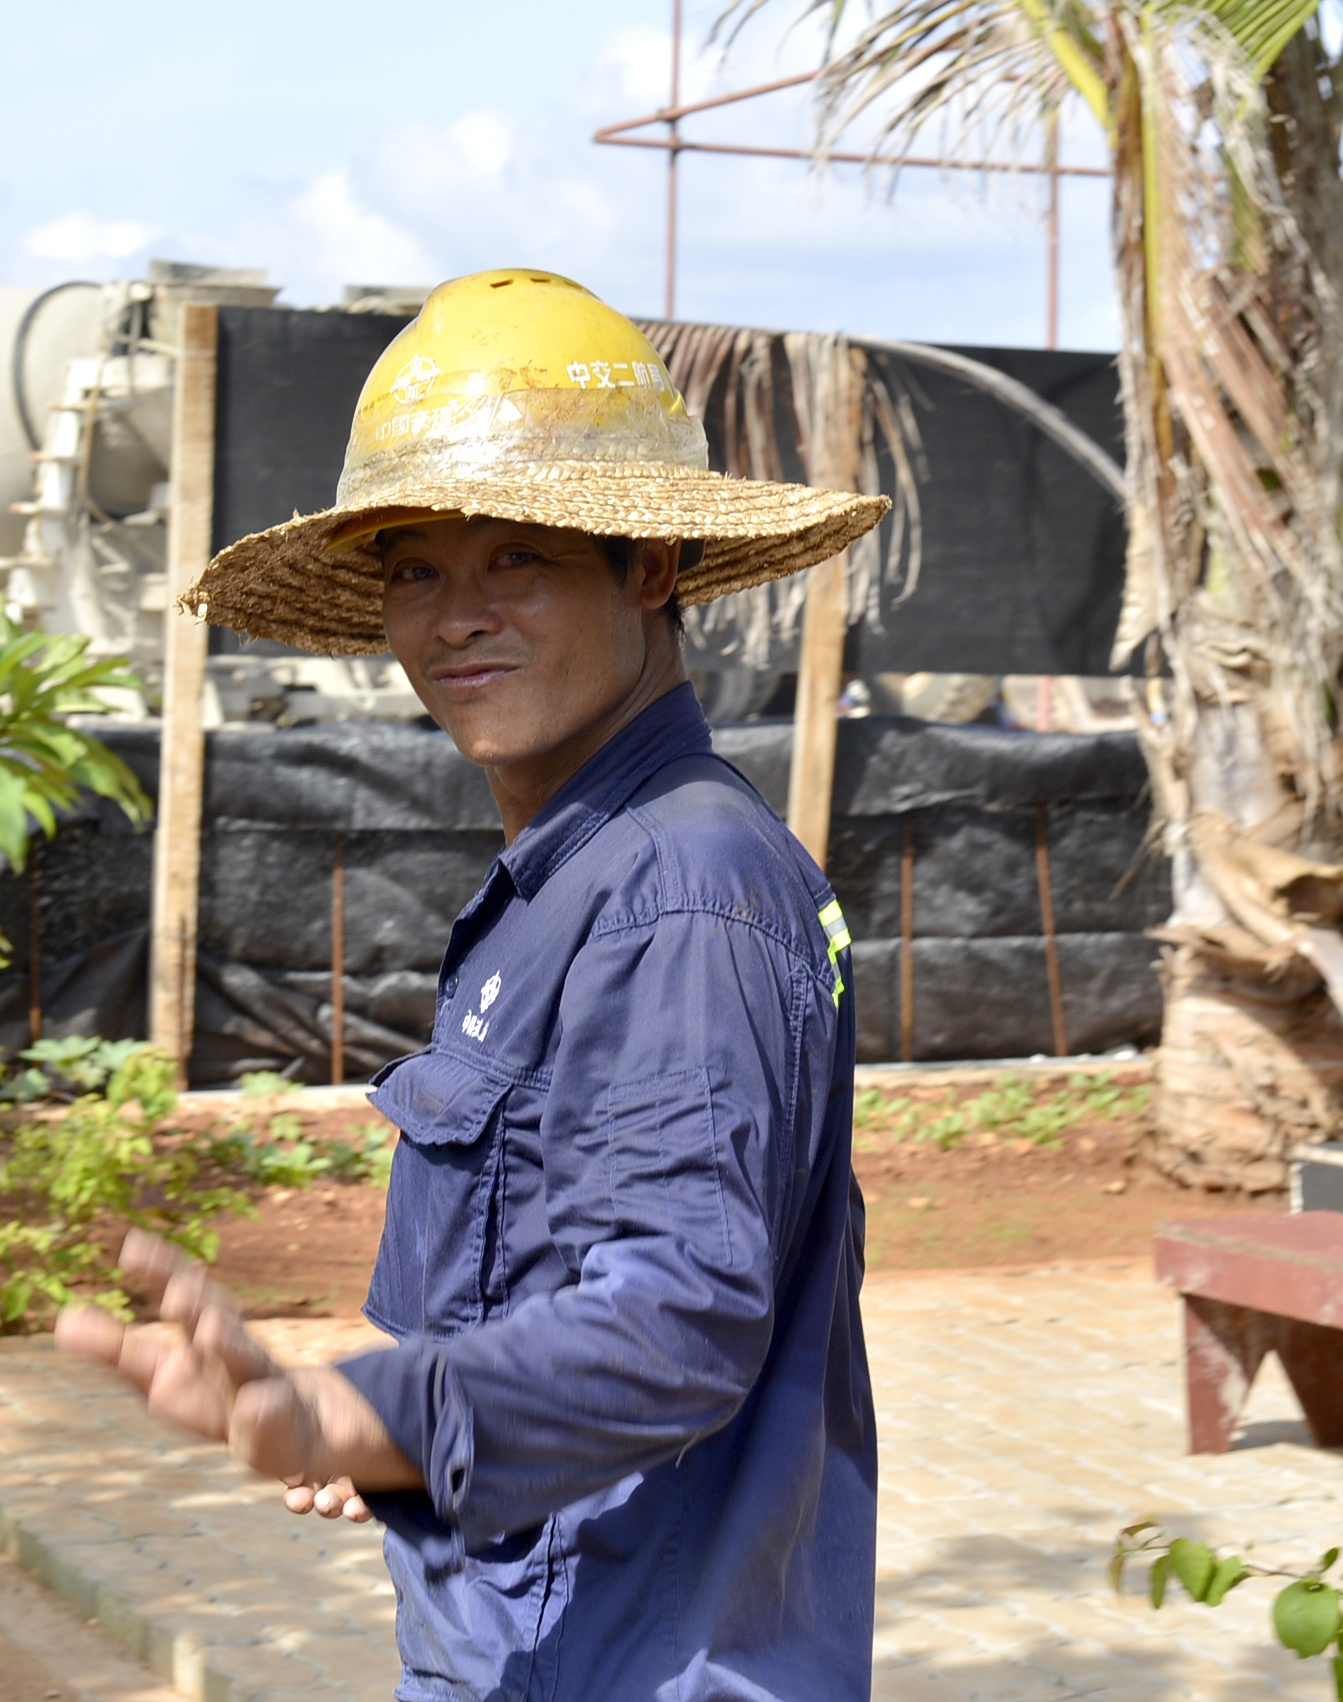yellow: (314, 257, 724, 769)
